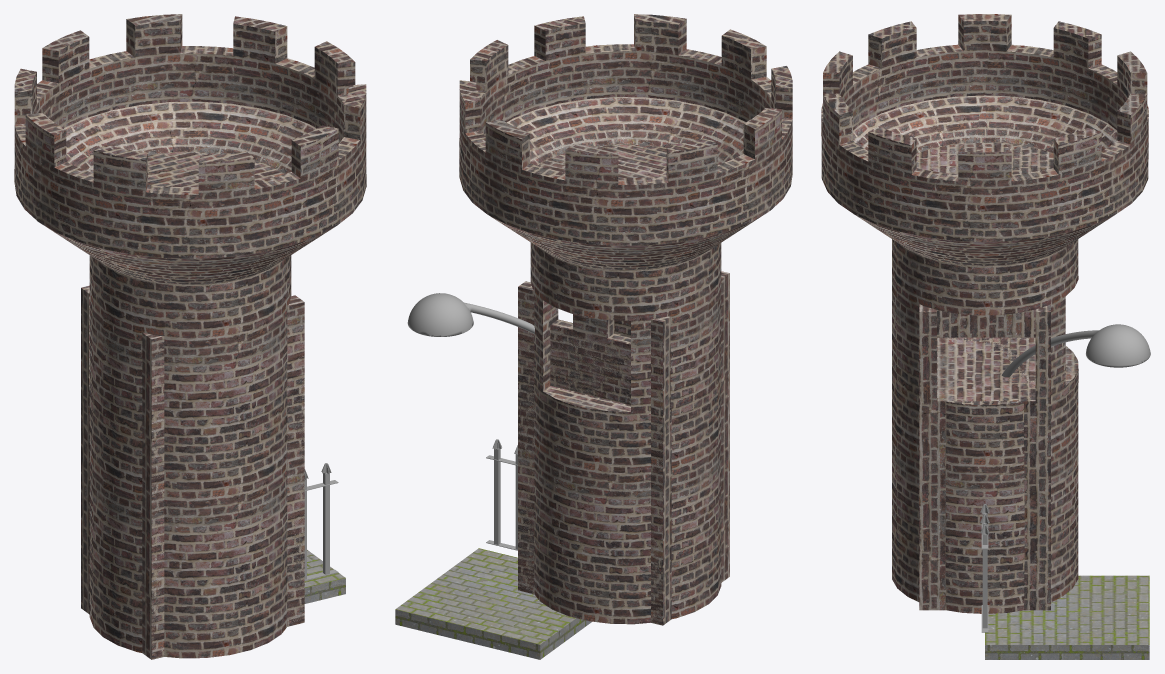
File: Fence.gltf
The picture shows the model from 3 angles, left to right: view 1: azimuth 30°, elevation 25°; view 2: azimuth 150°, elevation 25°; view 3: azimuth 270°, elevation 25°; orthographic projection. The views are drawn at different scales.
Visible parts, largest first — view 1: Tower, Wall_1, Wall_2, Fence, Floor; view 2: Tower, Wall_1, Floor, Wall_2, LightPost, Fence; view 3: Tower, Wall_1, Floor, LightPost, Fence.
Boxes of the visible parts, x1,y1,x2,y2 form: Tower: [14, 14, 366, 658]; Wall_1: [81, 285, 304, 659]; Wall_2: [151, 304, 304, 658]; Fence: [304, 463, 338, 580]; Floor: [304, 550, 345, 603]; Tower: [459, 14, 792, 624]; Wall_1: [518, 271, 729, 625]; Floor: [395, 548, 591, 659]; Wall_2: [518, 288, 662, 625]; LightPost: [407, 293, 534, 336]; Fence: [486, 439, 517, 550]; Tower: [821, 14, 1148, 613]; Wall_1: [919, 304, 1050, 610]; Floor: [985, 575, 1149, 659]; LightPost: [1001, 324, 1150, 377]; Fence: [980, 504, 989, 632].
Size of the model in its own units: 2.01 by 3.41 by 2.
4 materials, 2 textured.
